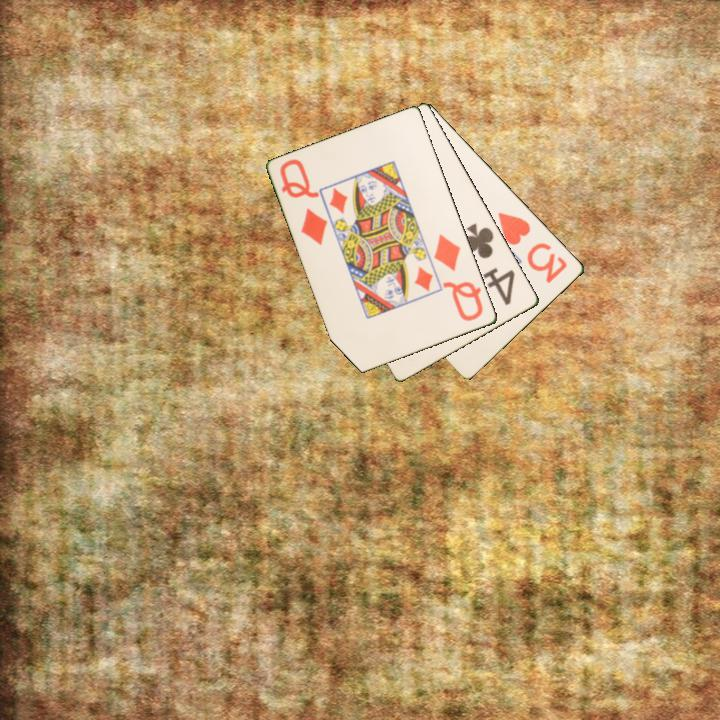3h: (495, 208, 571, 286)
4c: (460, 219, 518, 308)
Qd: (276, 154, 331, 249), (430, 231, 486, 324)
